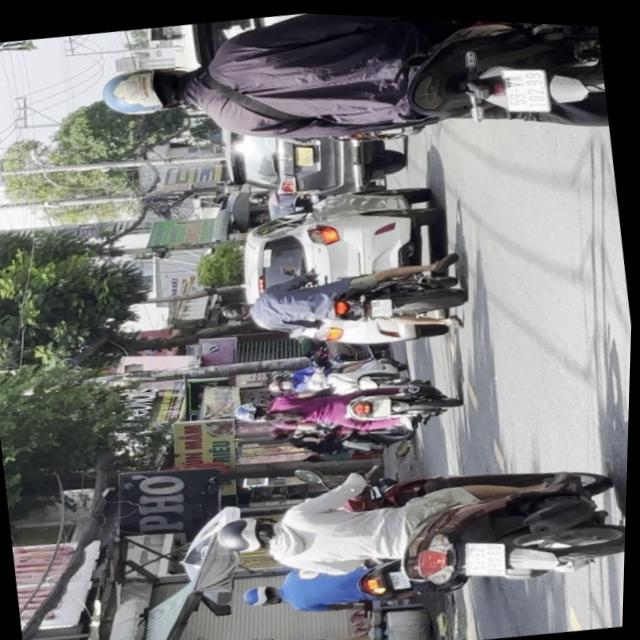helmet: (97, 56, 199, 122), (216, 509, 283, 556), (244, 579, 285, 608), (233, 397, 271, 423)
licenseplate: (87, 3, 612, 194), (208, 428, 630, 624), (212, 241, 474, 353), (240, 538, 484, 627), (230, 362, 463, 450)
motorcyclist: (219, 296, 259, 323)
nohelmet: (500, 60, 551, 111), (466, 534, 510, 575), (392, 565, 415, 587), (372, 293, 394, 314)
